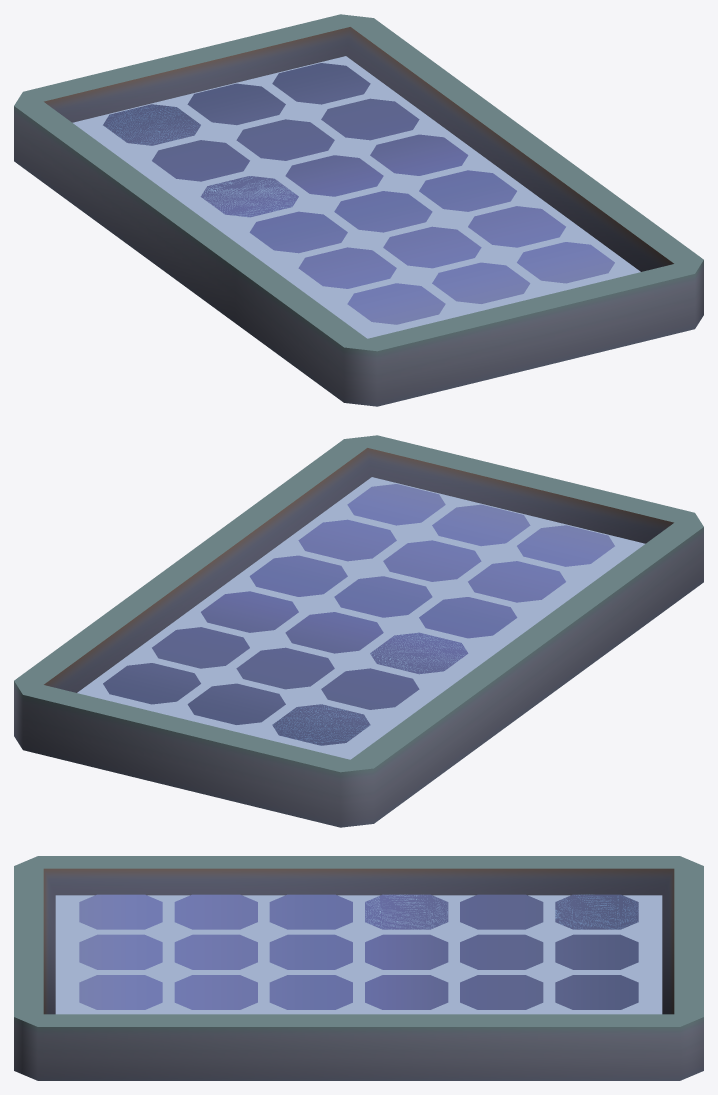
Rendered from ind_solar_panel_flat.glb.
3 views of the same model, one above another, from view 1: azimuth 30°, elevation 25°; view 2: azimuth 150°, elevation 25°; view 3: azimuth 270°, elevation 25° (orthographic). The views are drawn at different scales.
Parts seen in each view (by area): view 1: solar-panel-flat; view 2: solar-panel-flat; view 3: solar-panel-flat.
Part boxes in pixels (box(x1,y1,x2,y2)): solar-panel-flat: box(14, 14, 703, 406); solar-panel-flat: box(14, 435, 703, 827); solar-panel-flat: box(14, 856, 703, 1080).
Bounding box in the file's own units: 0.4182 × 0.0615 × 0.7134.
Materials: 1 (1 with a texture image).
